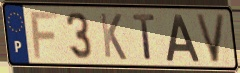3: (65, 11, 94, 61)
A: (164, 12, 201, 63)
F: (29, 10, 60, 60)
K: (98, 11, 128, 62)
T: (131, 13, 158, 62)
V: (193, 12, 228, 65)
